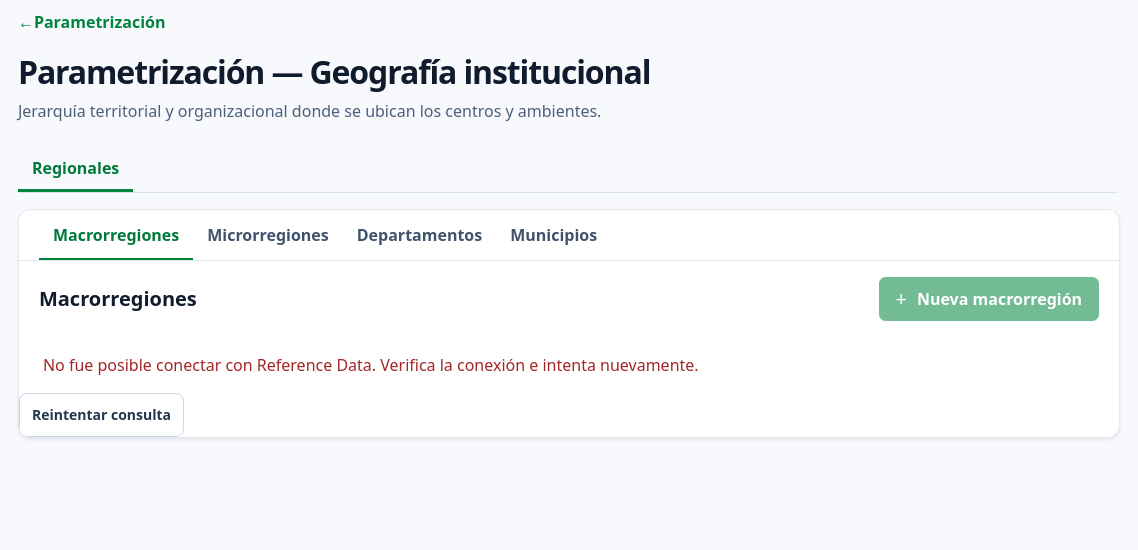
Scenario: App con respuestas HTTP simuladas (no es integración contra backend) › presenta un error de red genérico y permite reintentar sin introducir filas ficticias
The image size is (1138, 550).
expect the message shows "No fue posible conectar con Reference Data.": met, box [43, 354, 699, 376]
expect the text "Macrorregión recuperada" is not shown: met
Step 1. Click the button "Reintentar consulta" → x=101, y=414, box [19, 392, 184, 436]
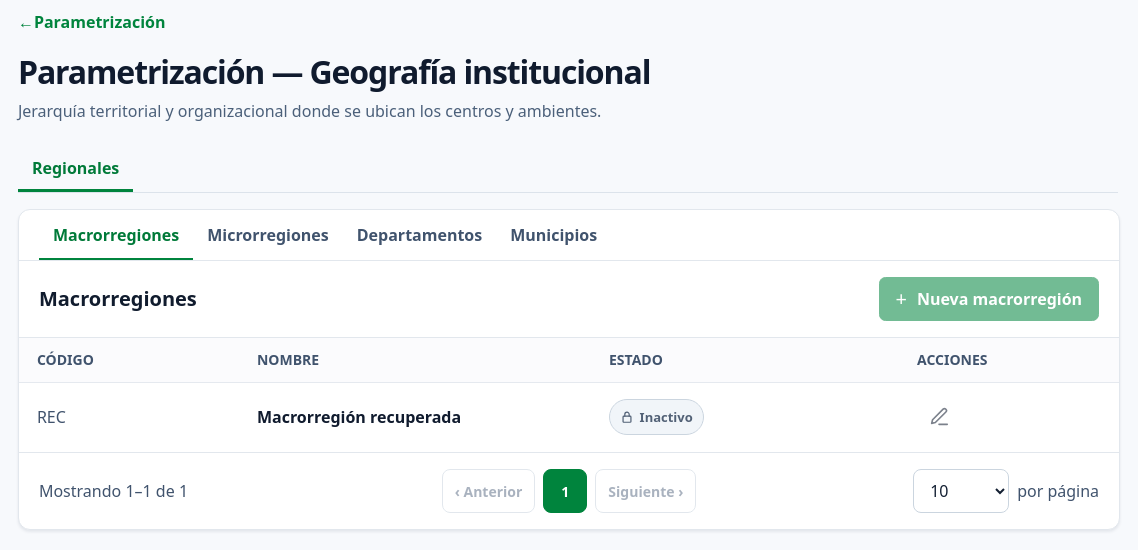
expect the button "Macrorregión recuperada" is shown: met, box [257, 400, 461, 434]
expect the text "Inactivo" is shown: met, box [609, 399, 704, 436]
expect the navigation bar named "Paginación de macrorregiones" is shown: met, box [39, 469, 1099, 513]
